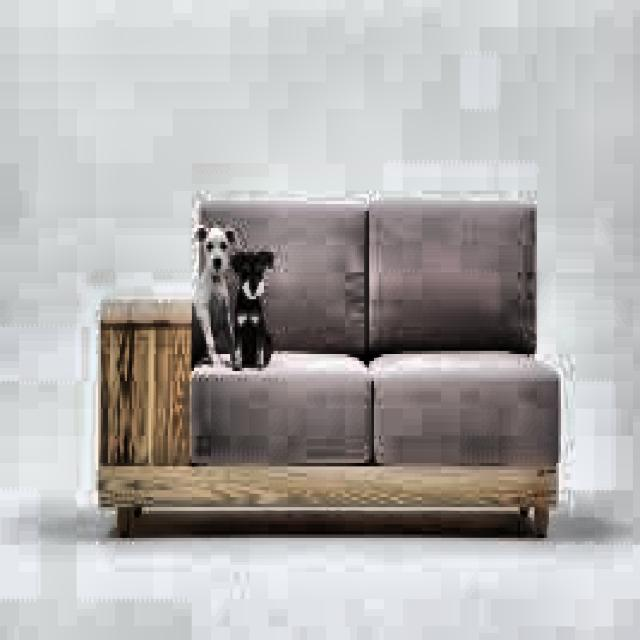sofa: (94, 198, 566, 534)
